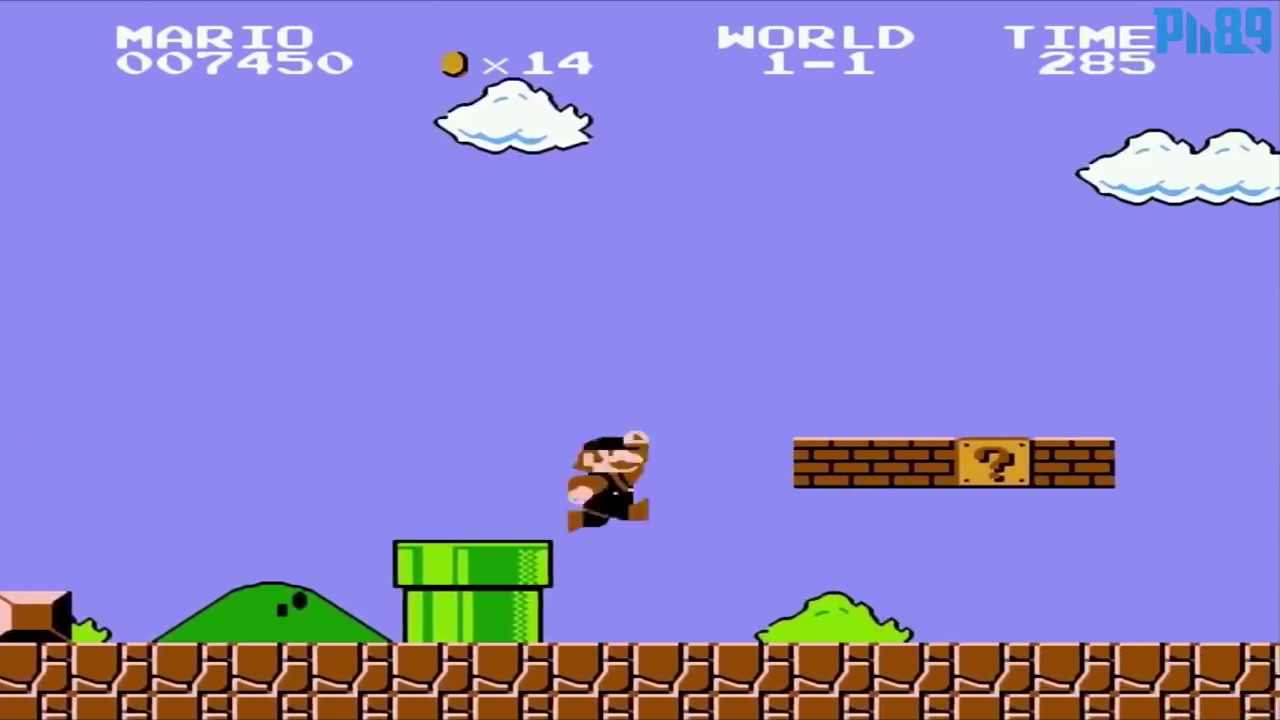mario: (554, 426, 678, 529)
